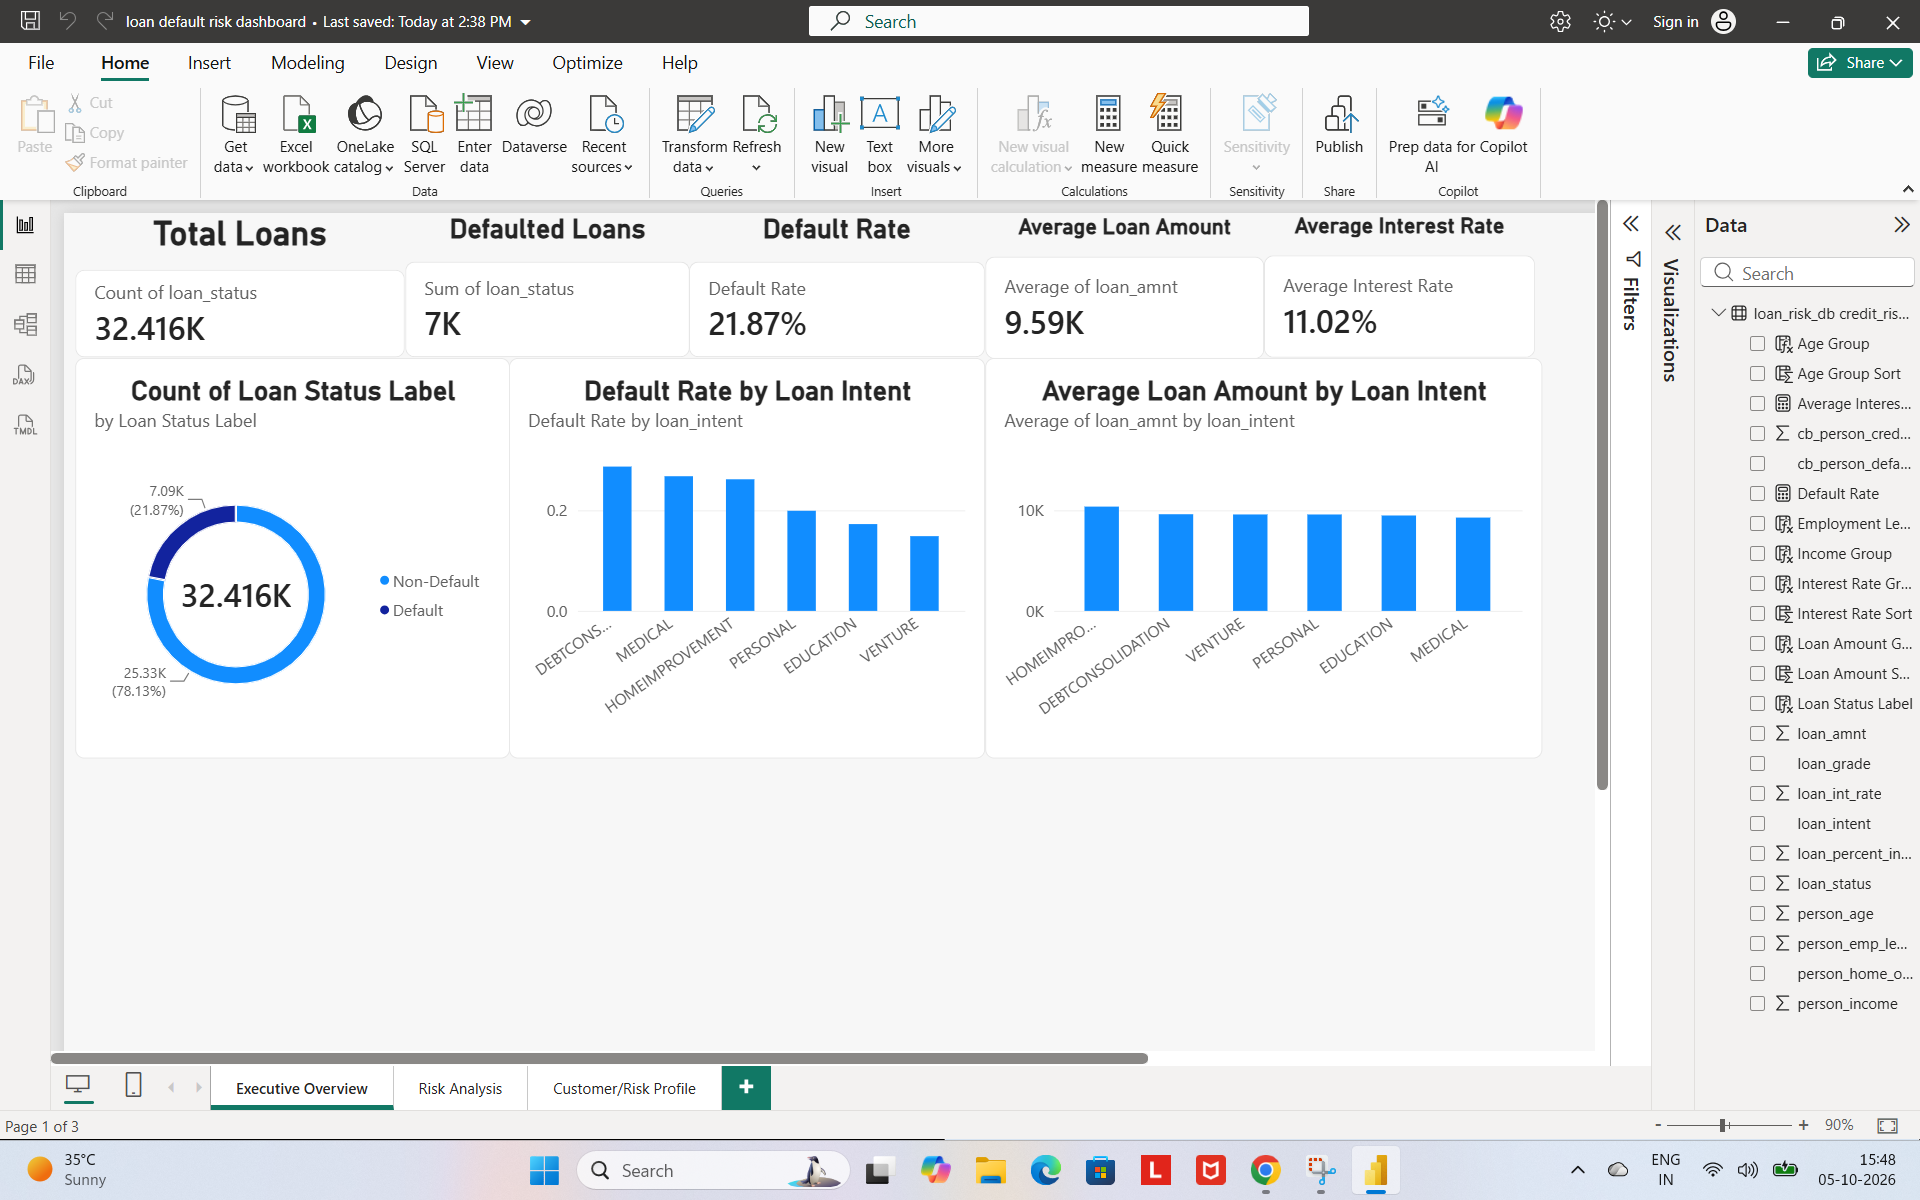

Layout of this report page (visuals, bound fields, positions):
{"tool":"powerbi","page":{"name":"Executive Overview","canvas":[1920,1080],"ordinal":0},"visuals":[{"type":"cardVisual","title":"Total Loans","fields":{"Data":["CountNonNull(loan_risk_db credit_risk_clean.loan_status)"]},"box":[10,0,293,129],"z":0},{"type":"cardVisual","title":"Defaulted Loans","fields":{"Data":["Sum(loan_risk_db credit_risk_clean.loan_status)"]},"box":[303,0,253,129],"z":1000},{"type":"cardVisual","title":"Default Rate","fields":{"Data":["loan_risk_db credit_risk_clean.Default Rate"]},"box":[556,0,263,129],"z":2000},{"type":"cardVisual","title":"Average Loan Amount","fields":{"Data":["Avg(loan_risk_db credit_risk_clean.loan_amnt)"]},"box":[819,1,248,129],"z":3000},{"type":"cardVisual","title":"Average Interest Rate","fields":{"Data":["loan_risk_db credit_risk_clean.Average Interest Rate"]},"box":[1067,0,241,129],"z":4000},{"type":"donutChart","fields":{"Category":["loan_risk_db credit_risk_clean.Loan Status Label"],"Y":["CountNonNull(loan_risk_db credit_risk_clean.Loan Status Label)"]},"box":[10,129,386,356],"z":5000},{"type":"clusteredColumnChart","title":"Default Rate by Loan Intent","fields":{"Category":["loan_risk_db credit_risk_clean.loan_intent"],"Y":["loan_risk_db credit_risk_clean.Default Rate"]},"box":[396,129,423,356],"z":6000},{"type":"clusteredColumnChart","title":"Average Loan Amount by Loan Intent","fields":{"Category":["loan_risk_db credit_risk_clean.loan_intent"],"Y":["Avg(loan_risk_db credit_risk_clean.loan_amnt)"]},"box":[819,129,495,356],"z":7000}]}

Visuals, with their boxes on the page's 1920x1080 design canvas (x1, y1, x2, y2). These are canvas units, not pixel positions in the 1920x1200 screenshot, which may show the page scaled, cropped or inside an application window:
"Total Loans" cardVisual: crop(10, 0, 303, 129)
"Defaulted Loans" cardVisual: crop(303, 0, 556, 129)
"Default Rate" cardVisual: crop(556, 0, 819, 129)
"Average Loan Amount" cardVisual: crop(819, 1, 1067, 130)
"Average Interest Rate" cardVisual: crop(1067, 0, 1308, 129)
donutChart - loan_risk_db credit_risk_clean.Loan Status Label x CountNonNull(loan_risk_db credit_risk_clean.Loan Status Label): crop(10, 129, 396, 485)
"Default Rate by Loan Intent" clusteredColumnChart: crop(396, 129, 819, 485)
"Average Loan Amount by Loan Intent" clusteredColumnChart: crop(819, 129, 1314, 485)
